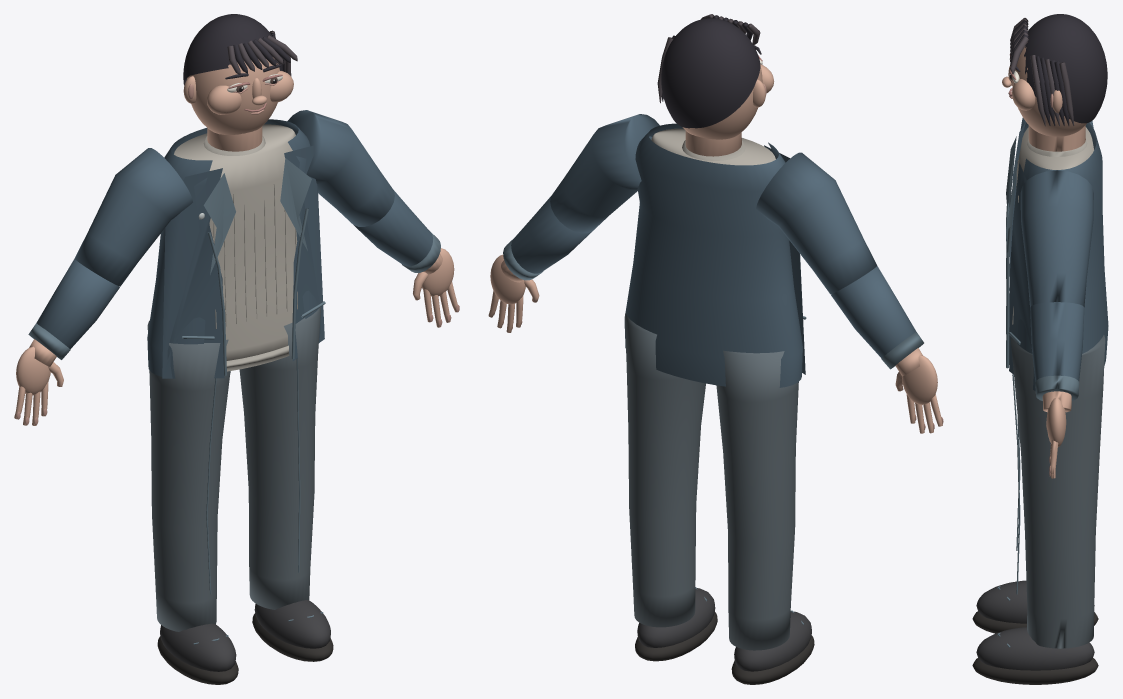
3 views of the same model, side by side, from view 1: azimuth 30°, elevation 25°; view 2: azimuth 150°, elevation 25°; view 3: azimuth 270°, elevation 25° (orthographic). The views are drawn at different scales.
Visible parts, largest first — view 1: left trouser leg, right trouser leg, knitted sweater, left upper sleeve, left jacket front, right upper sleeve, tailored jacket shell, left forearm sleeve, head softly oval, right jacket front, asymmetric bob cap, right forearm sleeve (+11 smaller); view 2: tailored jacket shell, left trouser leg, right trouser leg, left upper sleeve, asymmetric bob cap, right upper sleeve, left forearm sleeve, right forearm sleeve, left narrow shoe, right narrow shoe, knitted sweater, head softly oval (+6 smaller); view 3: right trouser leg, right upper sleeve, asymmetric bob cap, tailored jacket shell, right forearm sleeve, right narrow shoe, right jacket front, long bob lock (×7), right shoe sole, left narrow shoe, head softly oval, knitted sweater (+13 smaller).
Boxes of the visible parts, left/top/right/bottom form: left trouser leg: left=147, top=320, right=230, bottom=631; right trouser leg: left=239, top=307, right=320, bottom=609; knitted sweater: left=174, top=124, right=297, bottom=360; left upper sleeve: left=74, top=148, right=192, bottom=286; left jacket front: left=162, top=168, right=224, bottom=378; right upper sleeve: left=287, top=110, right=394, bottom=226; tailored jacket shell: left=147, top=119, right=321, bottom=378; left forearm sleeve: left=36, top=259, right=119, bottom=348; head softly oval: left=187, top=57, right=279, bottom=134; right jacket front: left=284, top=145, right=324, bottom=360; asymmetric bob cap: left=183, top=14, right=282, bottom=85; right forearm sleeve: left=354, top=190, right=433, bottom=266; tailored jacket shell: left=624, top=123, right=802, bottom=387; left trouser leg: left=716, top=350, right=798, bottom=650; right trouser leg: left=624, top=312, right=705, bottom=627; left upper sleeve: left=756, top=152, right=877, bottom=294; asymmetric bob cap: left=661, top=18, right=760, bottom=128; right upper sleeve: left=550, top=114, right=659, bottom=233; left forearm sleeve: left=831, top=266, right=915, bottom=357; right forearm sleeve: left=511, top=196, right=592, bottom=273; left narrow shoe: left=734, top=611, right=811, bottom=671; right narrow shoe: left=637, top=588, right=715, bottom=647; knitted sweater: left=651, top=128, right=775, bottom=165; head softly oval: left=682, top=65, right=762, bottom=139; right trouser leg: left=1010, top=335, right=1105, bottom=648; right upper sleeve: left=1020, top=170, right=1093, bottom=307; asymmetric bob cap: left=1024, top=14, right=1107, bottom=123; tailored jacket shell: left=1017, top=122, right=1108, bottom=389; right forearm sleeve: left=1030, top=302, right=1084, bottom=381; right narrow shoe: left=976, top=627, right=1094, bottom=670; right jacket front: left=1009, top=162, right=1035, bottom=391; long bob lock (×7): left=1030, top=55, right=1074, bottom=126; right shoe sole: left=972, top=658, right=1098, bottom=684; left narrow shoe: left=976, top=580, right=1094, bottom=623; head softly oval: left=1012, top=42, right=1086, bottom=136; knitted sweater: left=1016, top=127, right=1093, bottom=185.
Size of the model in its own units: 1.31 by 1.79 by 0.345.
